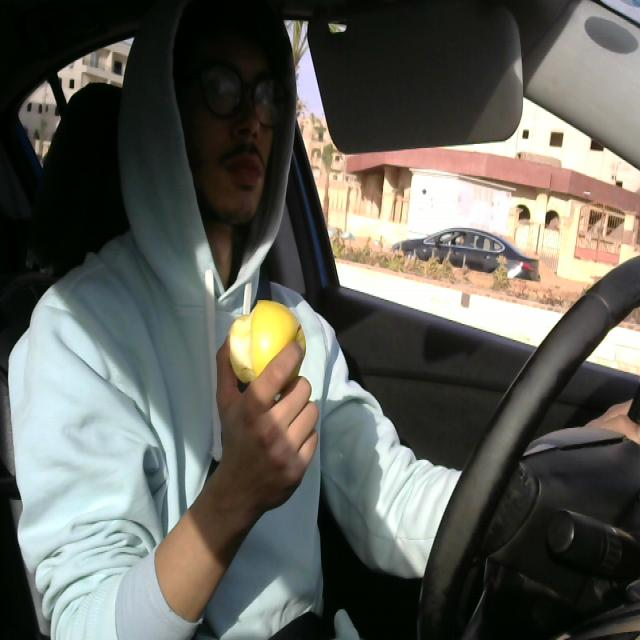eating: (224, 299, 308, 399)
